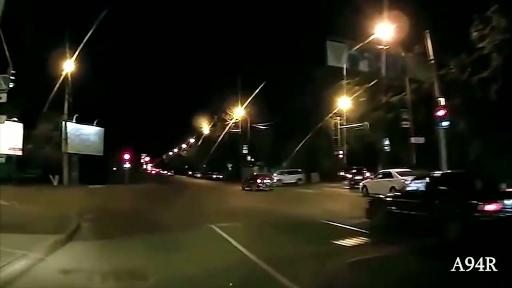Accident: (223, 141, 320, 201)
